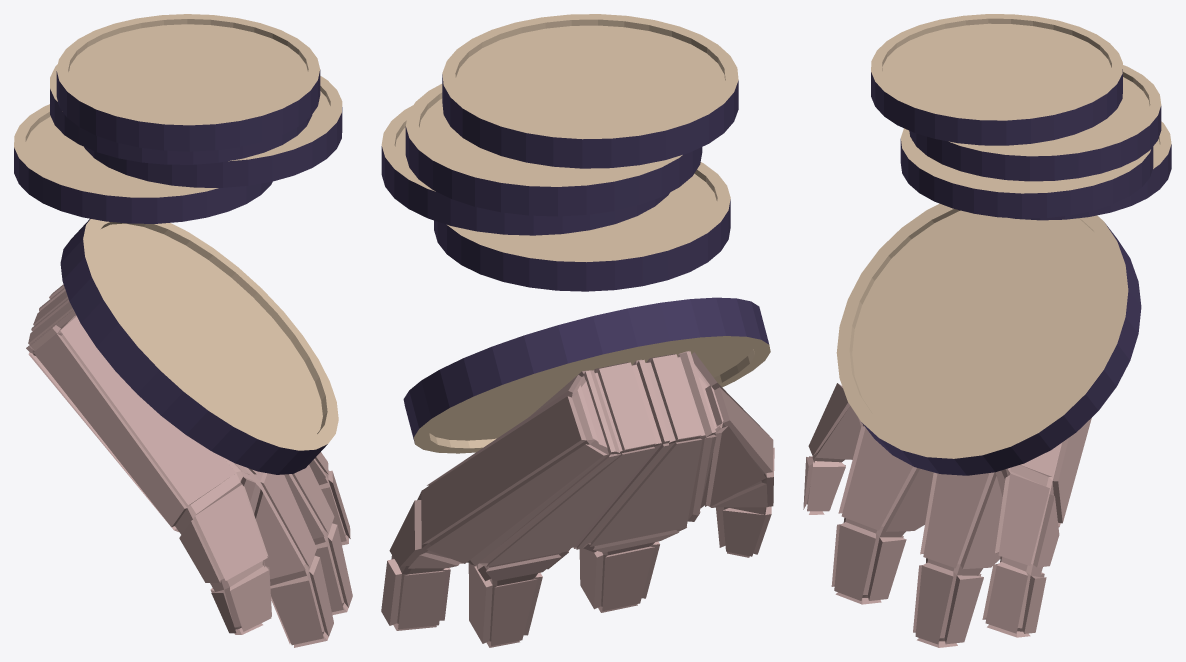
The model's file is playerNew_left.obj.
The picture shows the model from 3 angles, left to right: view 1: azimuth 30°, elevation 25°; view 2: azimuth 150°, elevation 25°; view 3: azimuth 270°, elevation 25°; orthographic projection. The views are drawn at different scales.
Visible parts, largest first — view 1: ICO球.024; view 2: ICO球.024; view 3: ICO球.024.
Part boxes in pixels (bbox=[...]): ICO球.024: bbox=[14, 14, 352, 647]; ICO球.024: bbox=[381, 14, 774, 647]; ICO球.024: bbox=[803, 14, 1171, 647].
Size of the model in its own units: 0.5074 by 0.8537 by 0.5404.
